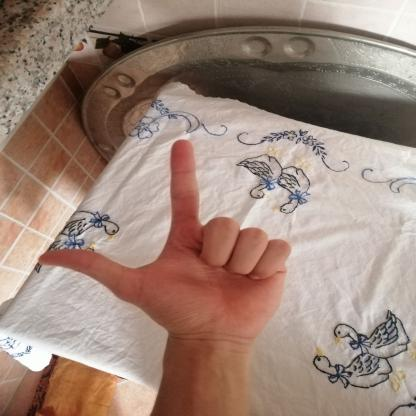LAAM: (26, 127, 302, 348)
